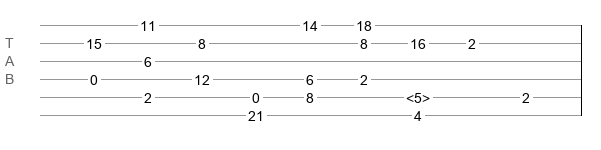0: (90, 72, 98, 82), (252, 90, 260, 100)
11: (140, 18, 156, 28)
12: (194, 72, 210, 82)
14: (302, 18, 318, 28)
15: (86, 36, 102, 46)
16: (410, 36, 426, 46)
18: (356, 18, 372, 28)
2: (144, 90, 152, 100), (360, 72, 368, 82), (468, 36, 476, 46), (522, 90, 530, 100)
21: (248, 108, 264, 118)
4: (414, 108, 422, 118)
6: (144, 54, 152, 64), (306, 72, 314, 82)
8: (198, 36, 206, 46), (306, 90, 314, 100), (360, 36, 368, 46)
harmonic: (406, 90, 430, 100)
